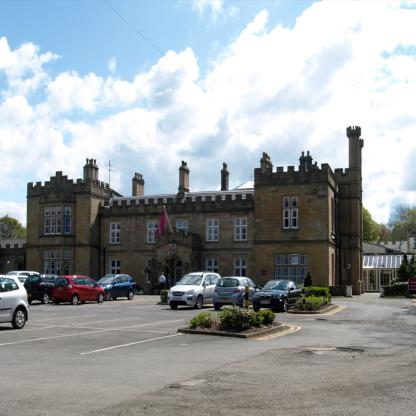Car: (167, 270, 225, 309), (252, 277, 304, 314), (210, 276, 262, 310), (0, 274, 30, 330), (51, 275, 105, 306), (22, 273, 66, 305), (98, 272, 138, 302), (0, 270, 37, 288)
